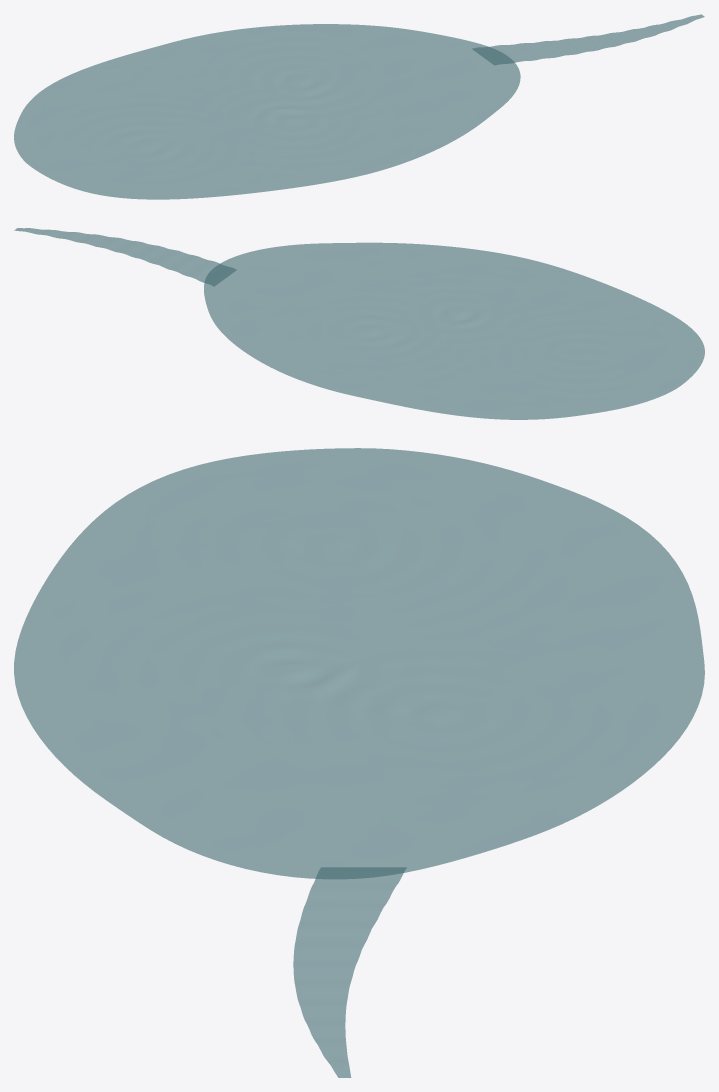
File: SM_BrinePool_Surface.fbx
3 views of the same model, one above another, from view 1: azimuth 30°, elevation 25°; view 2: azimuth 150°, elevation 25°; view 3: azimuth 270°, elevation 25° (orthographic). The views are drawn at different scales.
Visible parts, largest first — view 1: SM_BrinePool_Surface; view 2: SM_BrinePool_Surface; view 3: SM_BrinePool_Surface.
Part boxes in pixels (x1=…): SM_BrinePool_Surface: x1=14, y1=14, x2=704, y2=199; SM_BrinePool_Surface: x1=14, y1=228, x2=704, y2=419; SM_BrinePool_Surface: x1=14, y1=448, x2=704, y2=1077.
Bounding box in the file's own units: 10.07 × 0.1479 × 4.8.
